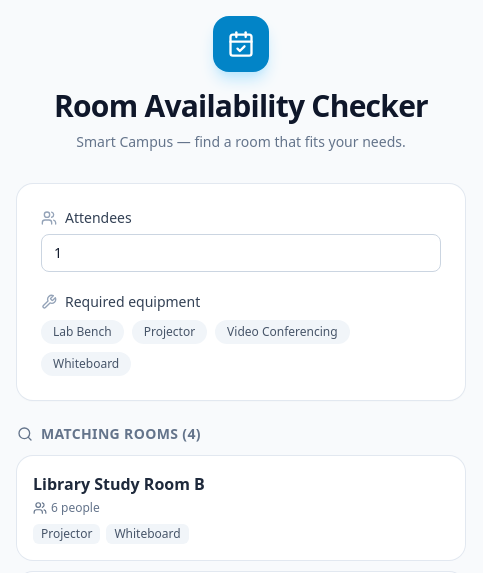
App integration › filters by equipment: selecting Lab Bench narrows to Engineering Lab 104
Click the button "Lab Bench": [82, 332] box [41,320,124,344]
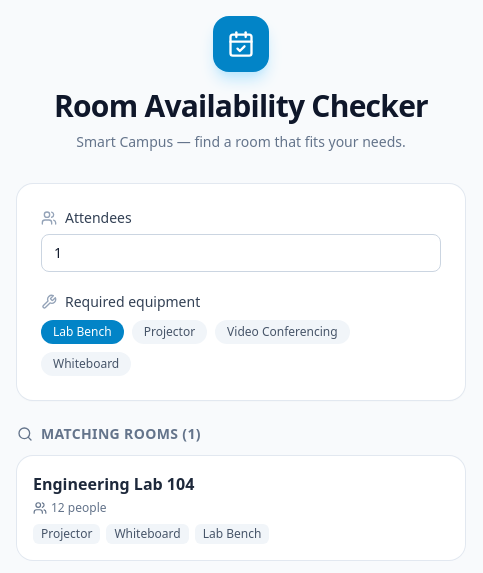
Expected: the text "Engineering Lab 104" is shown, [33,472,194,496]
Expected: the heading "Matching rooms (1)" is shown, [17,424,201,443]
Expected: the button "Library Study Room B" is gone
